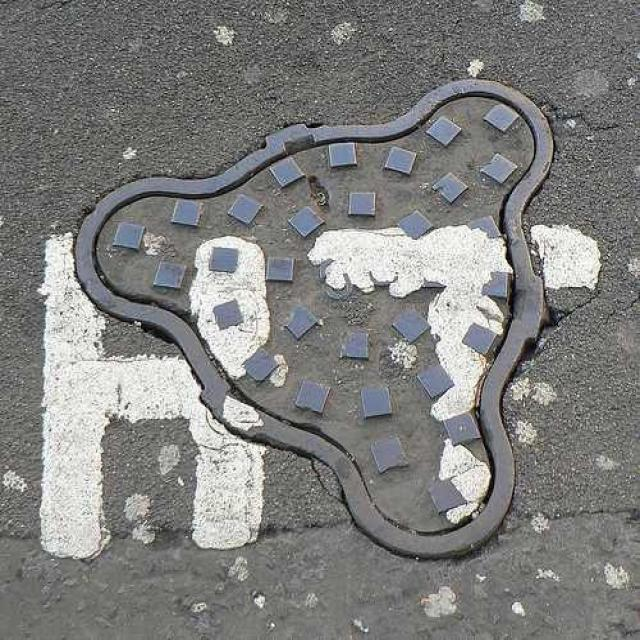manhole: (72, 77, 557, 565)
